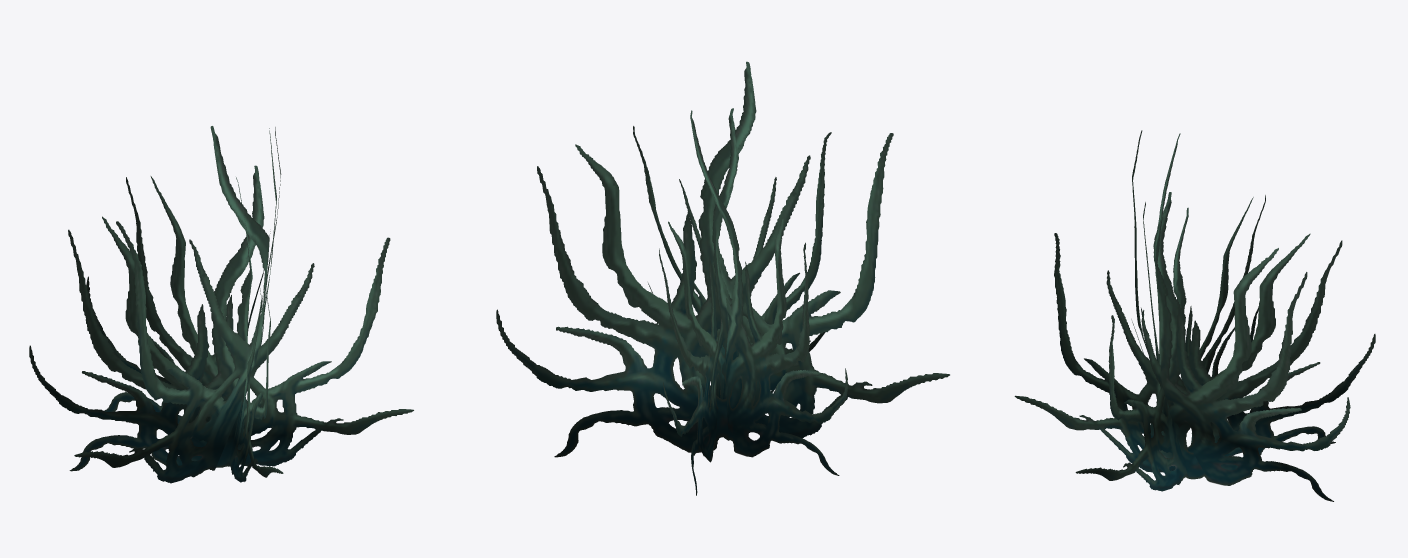
The model's file is SleepingGarden_Grass_03.fbx.
3 renders of one model, left to right at view 1: azimuth 30°, elevation 25°; view 2: azimuth 150°, elevation 25°; view 3: azimuth 270°, elevation 25°, orthographic. The views are drawn at different scales.
Parts seen in each view (by area): view 1: SleepingGarden_Grass_03; view 2: SleepingGarden_Grass_03; view 3: SleepingGarden_Grass_03.
Boxes of the visible parts, x1,y1,x2,y2 form: SleepingGarden_Grass_03: (29,126,413,483); SleepingGarden_Grass_03: (496,61,949,495); SleepingGarden_Grass_03: (1014,130,1375,501).
Bounding box in the file's own units: 0.9733 × 1.02 × 0.9292.
1 material, 1 textured.
